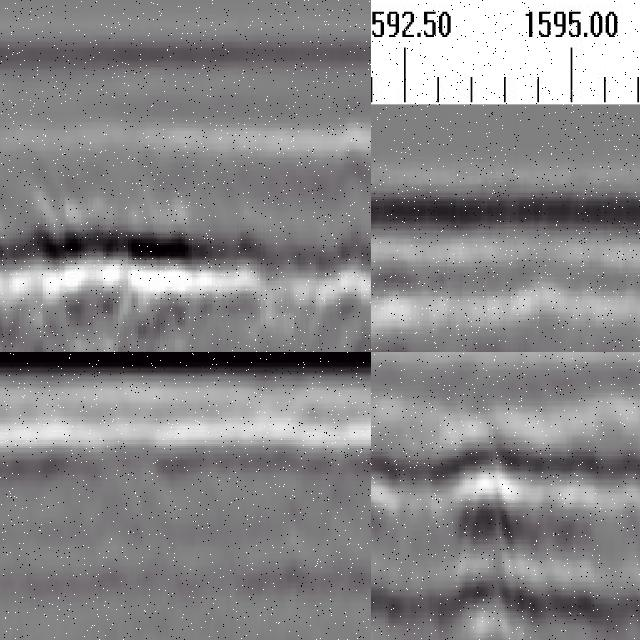loose: (372, 408, 598, 640), (5, 176, 196, 353)
